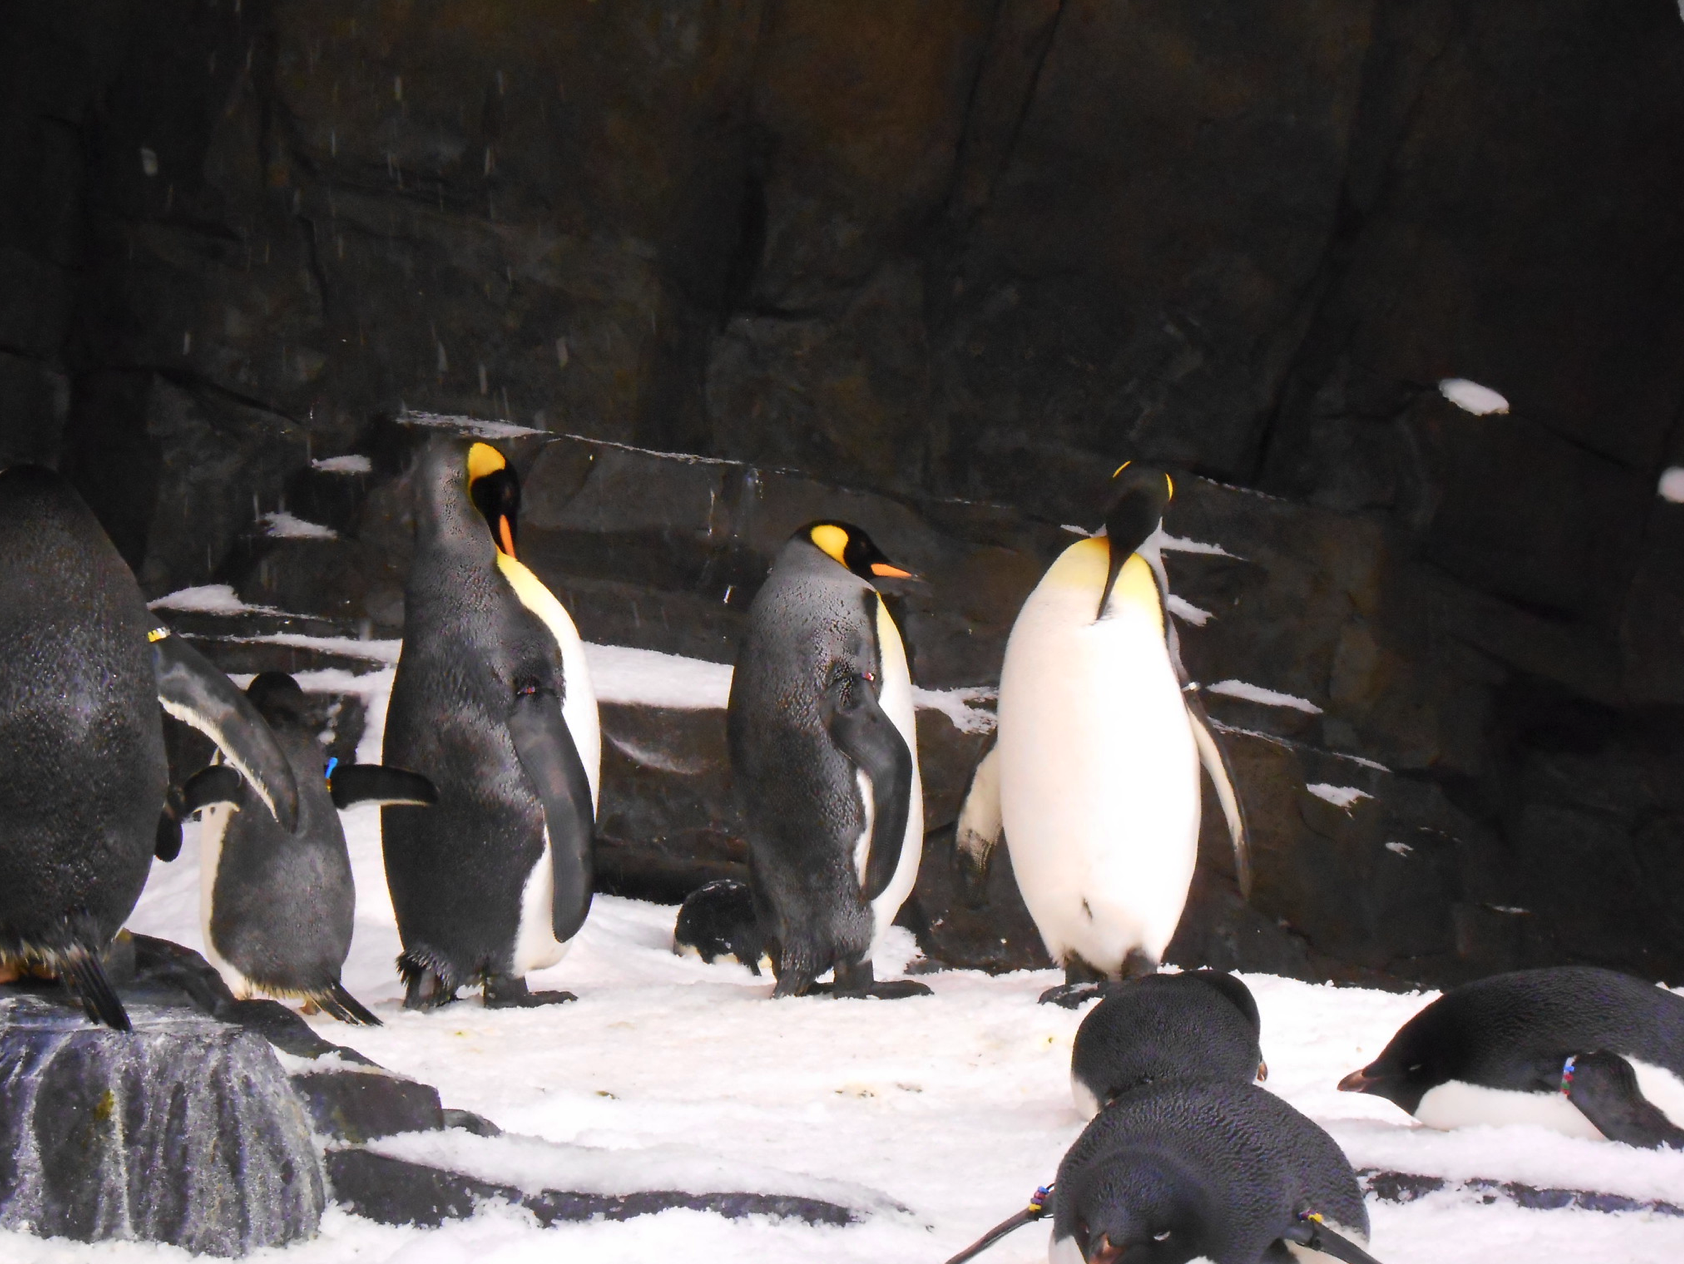penguin: (952, 457, 1256, 979), (347, 426, 615, 1010), (721, 516, 946, 998)
